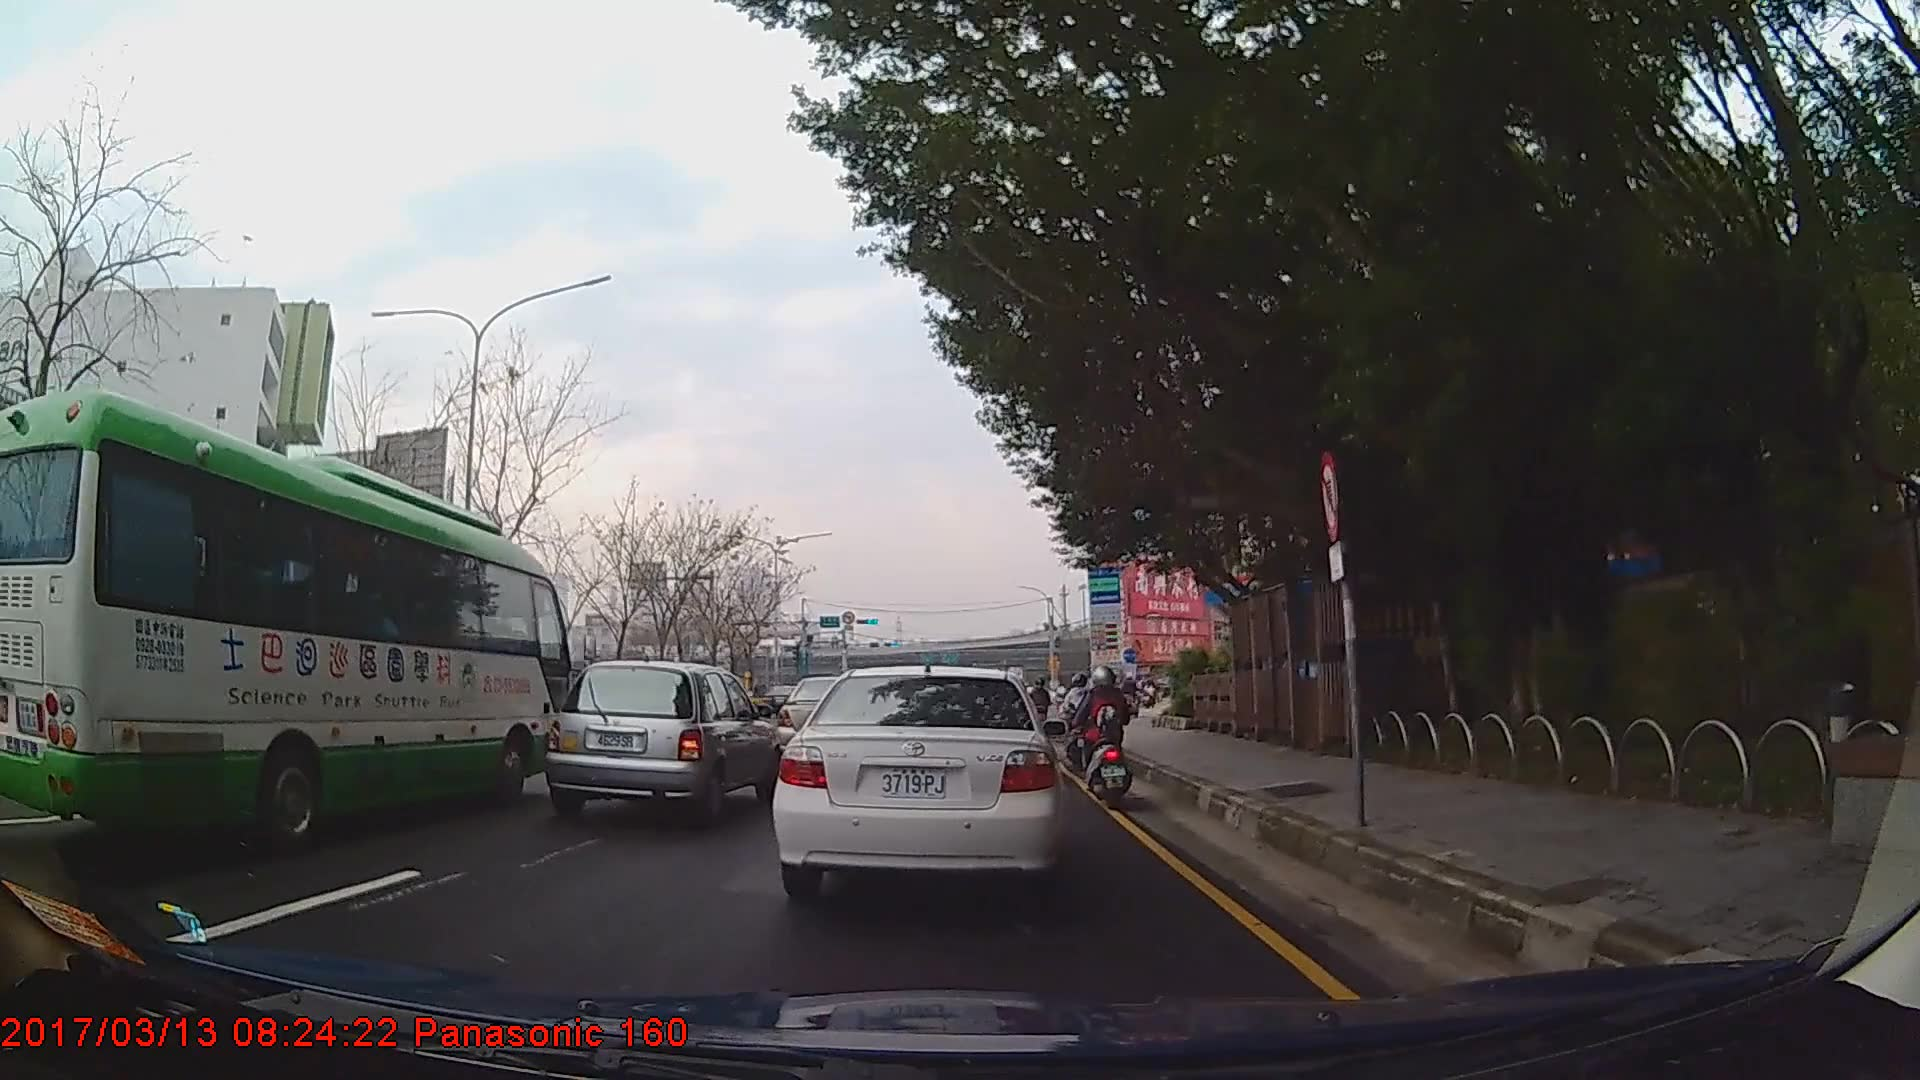rider: (1077, 660, 1130, 810), (1062, 670, 1099, 772), (1029, 675, 1053, 732)
vehicle: (3, 387, 571, 849), (771, 665, 1064, 898), (545, 656, 780, 830), (763, 681, 804, 713)
